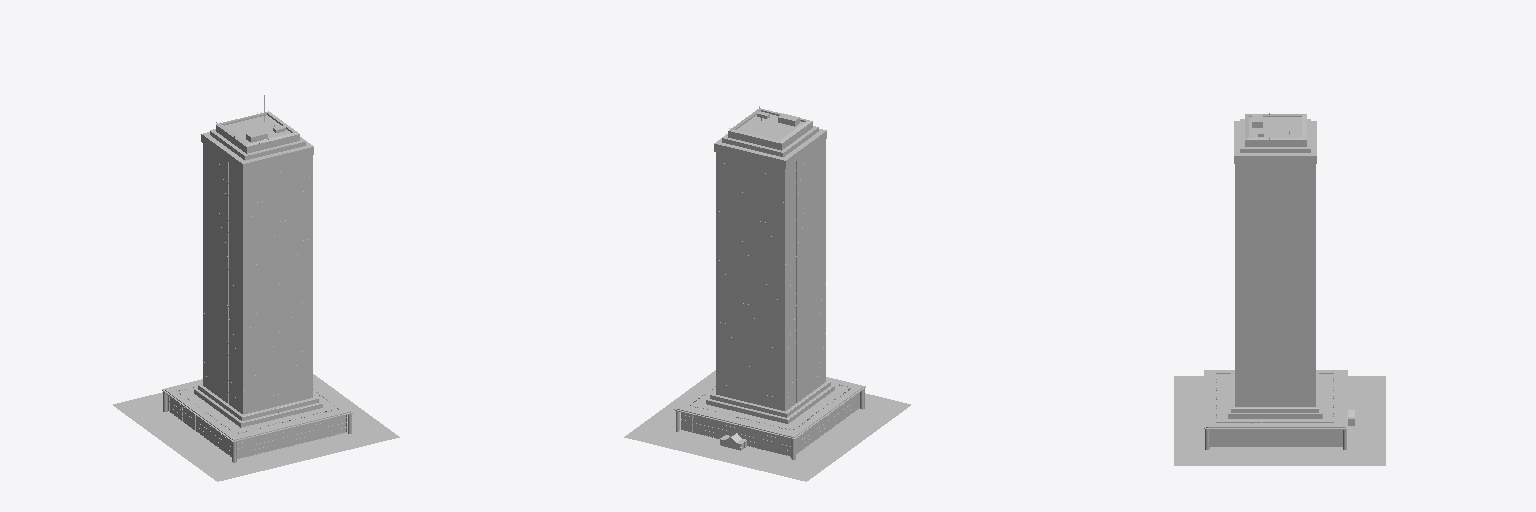
File: tower.obj
3 renders of one model, left to right at view 1: azimuth 30°, elevation 25°; view 2: azimuth 150°, elevation 25°; view 3: azimuth 270°, elevation 25°, orthographic.
Visible parts, largest first — view 1: Cube.002, Plane, Cube_Cube.004, Cube_Cube.007, Cube.005_Cube.009, Cube.006_Cube.010, Cube.003_Cube.008, Cube.001_Cube.000, Cube.001_Cube.006; view 2: Cube.002, Plane, Cube_Cube.004, Cube_Cube.007, Cube.003_Cube.008, Cube.005_Cube.009, Cube.001_Cube.000, Cube.001_Cube.006, Cube.006_Cube.010; view 3: Cube.002, Plane, Cube_Cube.007, Cube_Cube.004, Cube.001_Cube.000, Cube.001_Cube.006, Cube.003_Cube.008, Cube.005_Cube.009, Cube.006_Cube.010.
Part boxes in pixels (left/top/right/bottom): Cube.002: left=203, top=144, right=312, bottom=414; Plane: left=113, top=374, right=399, bottom=481; Cube_Cube.004: left=201, top=111, right=313, bottom=171; Cube_Cube.007: left=162, top=379, right=352, bottom=441; Cube.005_Cube.009: left=168, top=401, right=346, bottom=453; Cube.006_Cube.010: left=168, top=406, right=346, bottom=458; Cube.003_Cube.008: left=168, top=396, right=346, bottom=448; Cube.001_Cube.000: left=194, top=388, right=322, bottom=427; Cube.001_Cube.006: left=198, top=384, right=318, bottom=420; Cube.002: left=716, top=140, right=825, bottom=411; Plane: left=624, top=370, right=910, bottom=481; Cube_Cube.004: left=714, top=108, right=826, bottom=168; Cube_Cube.007: left=674, top=377, right=865, bottom=439; Cube.003_Cube.008: left=681, top=393, right=859, bottom=445; Cube.005_Cube.009: left=681, top=398, right=859, bottom=451; Cube.001_Cube.000: left=706, top=384, right=834, bottom=423; Cube.001_Cube.006: left=710, top=380, right=830, bottom=417; Cube.006_Cube.010: left=681, top=403, right=859, bottom=456; Cube.002: left=1235, top=164, right=1315, bottom=406; Plane: left=1174, top=376, right=1385, bottom=465; Cube_Cube.007: left=1204, top=370, right=1347, bottom=429; Cube_Cube.004: left=1234, top=114, right=1316, bottom=163; Cube.001_Cube.000: left=1228, top=374, right=1322, bottom=418; Cube.001_Cube.006: left=1231, top=371, right=1318, bottom=412; Cube.003_Cube.008: left=1210, top=432, right=1342, bottom=436; Cube.005_Cube.009: left=1210, top=437, right=1342, bottom=441; Cube.006_Cube.010: left=1210, top=442, right=1342, bottom=446.
Size of the model in its own units: 4.35 by 7.51 by 4.35.